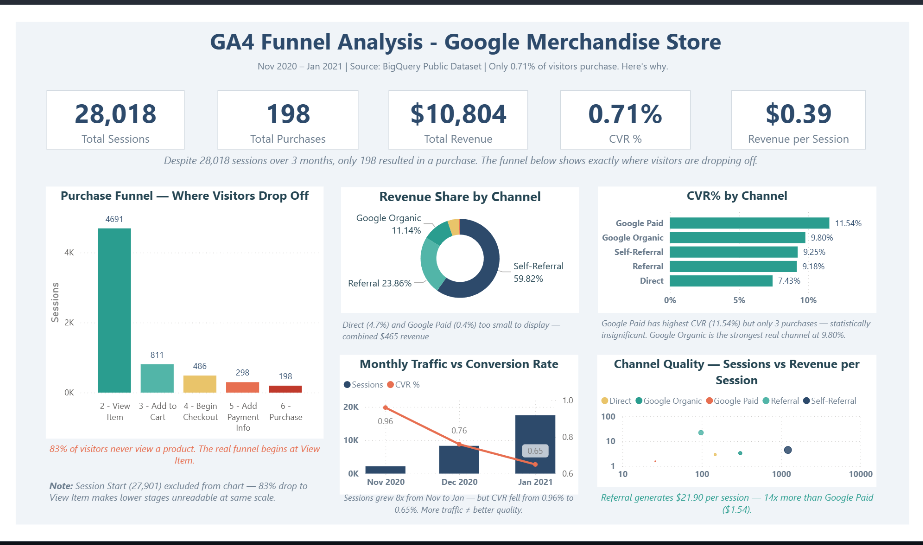

Layout of this report page (visuals, bound fields, positions):
{"tool":"powerbi","page":{"name":"Funnel & Traffic Overview","canvas":[1280,720],"ordinal":0},"visuals":[{"type":"textbox","box":[10.2,0,1268.5,98.2],"z":0},{"type":"card","fields":{"Values":["_Measures.Total Sessions"]},"box":[43.5,97.9,198.3,84.6],"z":1000},{"type":"textbox","box":[6.1,49.1,1268.5,32.7],"z":2000},{"type":"card","fields":{"Values":["_Measures.Total Purchases"]},"box":[289,97.9,201.9,84.6],"z":3000},{"type":"card","fields":{"Values":["_Measures.Total Revenue"]},"box":[534.4,97.9,199.5,84.6],"z":4000},{"type":"card","fields":{"Values":["_Measures.CVR %"]},"box":[779.9,97.9,187.4,84.6],"z":5000},{"type":"card","fields":{"Values":["_Measures.Revenue per Session"]},"box":[1025.3,97.9,192.3,84.6],"z":6000},{"type":"clusteredColumnChart","title":"Purchase Funnel — Where Visitors Drop Off","fields":{"Category":["funnel_analysis.funnel_stage"],"Y":["Sum(funnel_analysis.sessions)"]},"box":[42.9,235.7,398.6,361.4],"z":7000},{"type":"lineStackedColumnComboChart","title":"Monthly Traffic vs Conversion Rate","fields":{"Category":["monthly_trends.year_month"],"Y":["Sum(monthly_trends.total_sessions)"],"Y2":["Sum(monthly_trends.cvr_pct)"]},"box":[464.3,477.1,341.4,200],"z":8000},{"type":"scatterChart","title":"Channel Quality — Sessions vs Revenue per Session","fields":{"X":["channel_attribution.sessions"],"Y":["channel_attribution.revenue_per_session"],"Series":["channel_attribution.channel"],"Size":["Sum(channel_attribution.revenue)"]},"box":[832.9,477.1,400,188.6],"z":9000},{"type":"textbox","box":[42.9,597.1,398.6,52.9],"z":10000},{"type":"textbox","box":[832.7,667,401,53.2],"z":11000},{"type":"textbox","box":[463.5,666.7,341.3,54],"z":12000},{"type":"textbox","box":[0,182.5,1274.6,33.3],"z":13000},{"type":"donutChart","title":"Revenue Share by Channel","fields":{"Category":["channel_attribution.channel"],"Y":["Sum(channel_attribution.revenue)"]},"box":[465.7,237.1,341.4,180],"z":14000},{"type":"clusteredBarChart","title":"CVR% by Channel","fields":{"Category":["master_events.channel"],"Y":["_Measures.CVR %"]},"box":[834.3,235.7,398.6,181.4],"z":15000},{"type":"textbox","box":[462.9,418.6,341.4,47.1],"z":16000},{"type":"textbox","box":[42.9,650,388.6,70],"z":17000},{"type":"textbox","box":[834.3,417.1,400,48.6],"z":18000}]}

Visuals, with their boxes on the page's 1280x720 design canvas (x1, y1, x2, y2). These are canvas units, not pixel positions in the 923x545 screenshot, which may show the page scaled, cropped or inside an application window:
textbox: bbox(10, 0, 1279, 98)
card - _Measures.Total Sessions: bbox(44, 98, 242, 182)
textbox: bbox(6, 49, 1275, 82)
card - _Measures.Total Purchases: bbox(289, 98, 491, 182)
card - _Measures.Total Revenue: bbox(534, 98, 734, 182)
card - _Measures.CVR %: bbox(780, 98, 967, 182)
card - _Measures.Revenue per Session: bbox(1025, 98, 1218, 182)
"Purchase Funnel — Where Visitors Drop Off" clusteredColumnChart: bbox(43, 236, 442, 597)
"Monthly Traffic vs Conversion Rate" lineStackedColumnComboChart: bbox(464, 477, 806, 677)
"Channel Quality — Sessions vs Revenue per Session" scatterChart: bbox(833, 477, 1233, 666)
textbox: bbox(43, 597, 442, 650)
textbox: bbox(833, 667, 1234, 720)
textbox: bbox(464, 667, 805, 721)
textbox: bbox(0, 182, 1275, 216)
"Revenue Share by Channel" donutChart: bbox(466, 237, 807, 417)
"CVR% by Channel" clusteredBarChart: bbox(834, 236, 1233, 417)
textbox: bbox(463, 419, 804, 466)
textbox: bbox(43, 650, 432, 720)
textbox: bbox(834, 417, 1234, 466)
